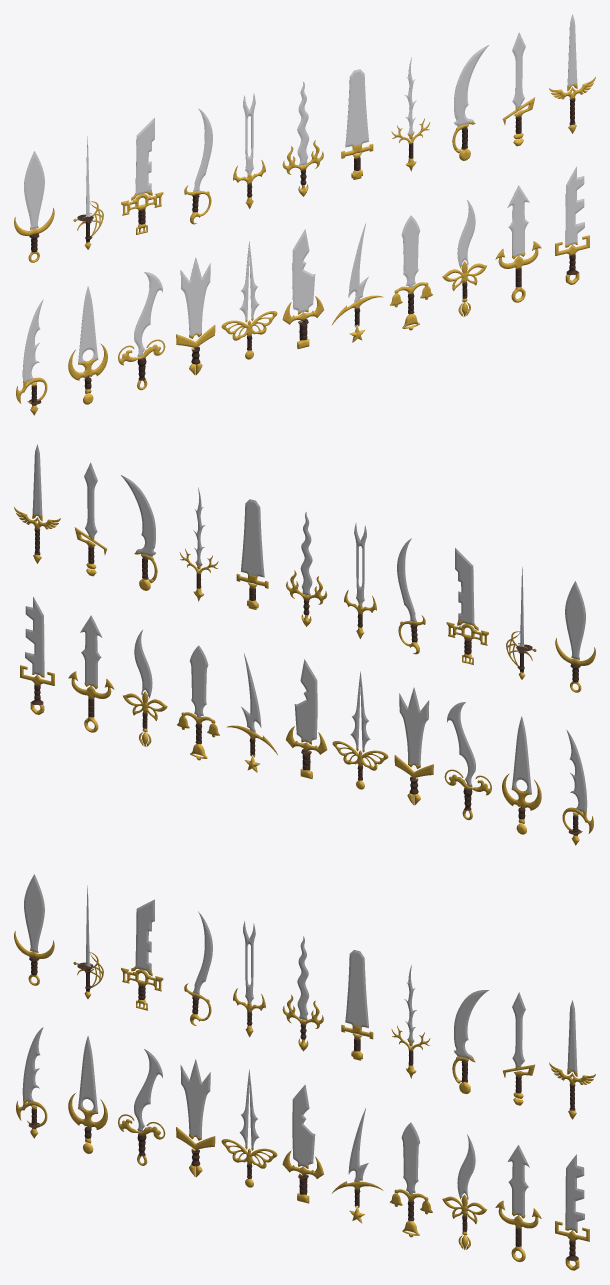
The model's file is NewSilhouettes.glb.
3 views of the same model, one above another, from view 1: azimuth 30°, elevation 25°; view 2: azimuth 150°, elevation 25°; view 3: azimuth 330°, elevation 25° (orthographic).
Parts seen in each view (by area): view 1: S07_Blade, Lockjaw_Blade, Crownsplitter_Blade, S01_Blade, S03_Blade, Riftkey_Blade, Gravebell_Blade, S09_Blade, IronAnchor_Blade, EclipseFang_Blade, Tidebreaker_Blade, S12_Blade (+10 smaller); view 2: S07_Blade, Lockjaw_Blade, Crownsplitter_Blade, S01_Blade, S03_Blade, Riftkey_Blade, Gravebell_Blade, S09_Blade, IronAnchor_Blade, EclipseFang_Blade, Tidebreaker_Blade, S12_Blade (+10 smaller); view 3: S07_Blade, Lockjaw_Blade, Crownsplitter_Blade, S01_Blade, S03_Blade, Riftkey_Blade, Gravebell_Blade, S09_Blade, IronAnchor_Blade, EclipseFang_Blade, Tidebreaker_Blade, S12_Blade (+10 smaller).
Boxes of the visible parts, <box> form: S07_Blade: <box>345,69,368,147</box>; Lockjaw_Blade: <box>292,229,315,312</box>; Crownsplitter_Blade: <box>180,257,210,335</box>; S01_Blade: <box>24,151,44,229</box>; S03_Blade: <box>135,117,154,194</box>; Riftkey_Blade: <box>565,166,584,244</box>; Gravebell_Blade: <box>401,215,420,287</box>; S09_Blade: <box>454,45,488,126</box>; IronAnchor_Blade: <box>507,185,529,256</box>; EclipseFang_Blade: <box>78,286,97,362</box>; Tidebreaker_Blade: <box>134,272,162,356</box>; S12_Blade: <box>22,299,43,382</box>; S07_Blade: <box>241,499,264,577</box>; Lockjaw_Blade: <box>294,659,317,742</box>; Crownsplitter_Blade: <box>399,687,429,765</box>; S01_Blade: <box>565,581,585,659</box>; S03_Blade: <box>455,547,474,624</box>; Riftkey_Blade: <box>25,596,44,674</box>; Gravebell_Blade: <box>189,645,208,717</box>; S09_Blade: <box>121,475,155,556</box>; IronAnchor_Blade: <box>80,615,102,686</box>; EclipseFang_Blade: <box>512,716,531,792</box>; Tidebreaker_Blade: <box>447,702,475,786</box>; S12_Blade: <box>566,729,587,812</box>; S07_Blade: <box>345,950,368,1027</box>; Lockjaw_Blade: <box>292,1084,315,1166</box>; Crownsplitter_Blade: <box>180,1059,210,1138</box>; S01_Blade: <box>24,874,44,952</box>; S03_Blade: <box>135,899,154,970</box>; Riftkey_Blade: <box>565,1154,584,1230</box>; Gravebell_Blade: <box>401,1122,420,1194</box>; S09_Blade: <box>454,990,489,1059</box>; IronAnchor_Blade: <box>507,1145,529,1215</box>; EclipseFang_Blade: <box>78,1036,97,1111</box>; Tidebreaker_Blade: <box>134,1049,162,1131</box>; S12_Blade: <box>22,1027,43,1101</box>.
Bounding box in the file's own units: 25.94 × 11.79 × 0.624.
